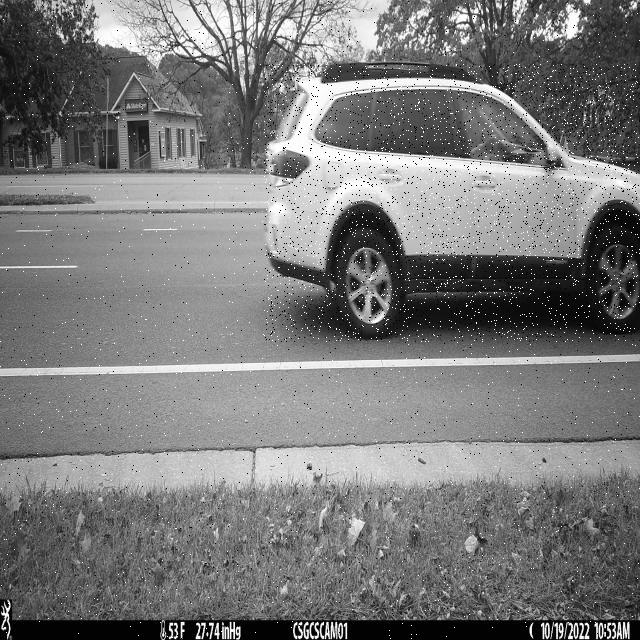Sedan: (264, 64, 640, 342)
